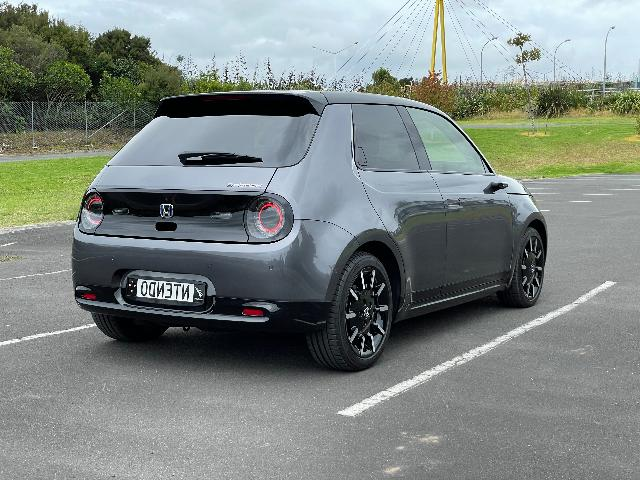Rego: (125, 277, 206, 307)
